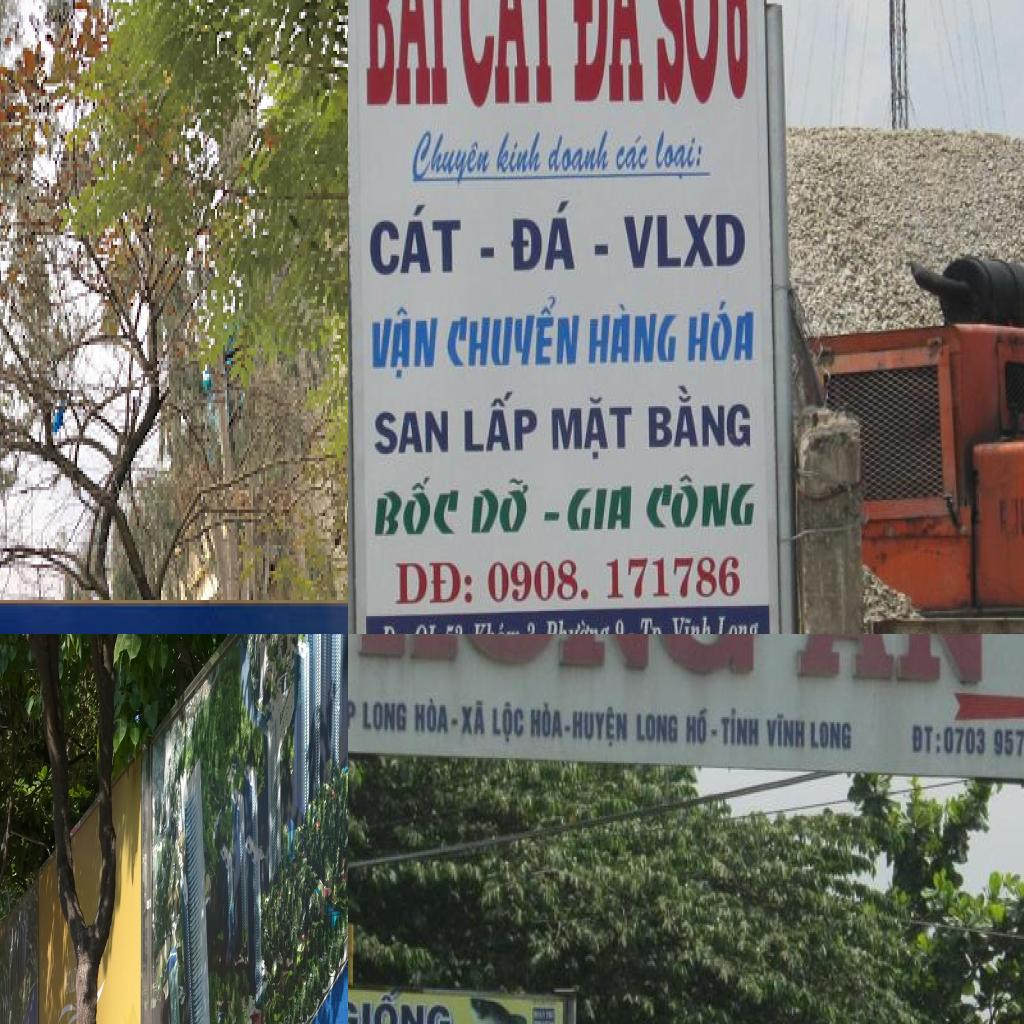text: (348, 634, 763, 682), (485, 544, 753, 610), (455, 0, 561, 112), (447, 292, 586, 375), (787, 634, 993, 688), (358, 0, 455, 114), (618, 198, 751, 273), (565, 0, 650, 112), (648, 0, 724, 119), (366, 196, 468, 284), (646, 379, 756, 457), (644, 469, 760, 538), (546, 394, 638, 470), (586, 297, 681, 369), (458, 386, 543, 464), (371, 472, 463, 542), (366, 297, 440, 384), (508, 194, 584, 276), (685, 288, 760, 370), (408, 123, 493, 188), (564, 471, 638, 539), (375, 398, 453, 462), (392, 553, 478, 609), (348, 981, 459, 1024), (470, 471, 535, 539), (546, 125, 613, 181), (653, 123, 705, 186), (492, 125, 546, 181), (572, 704, 628, 750), (361, 696, 408, 738), (633, 708, 681, 746), (491, 698, 526, 750), (717, 706, 760, 748), (612, 133, 652, 178), (808, 715, 854, 753), (412, 693, 450, 738), (527, 698, 563, 743), (942, 724, 986, 756), (765, 714, 806, 748), (456, 695, 488, 737), (715, 609, 762, 634), (545, 616, 610, 634), (669, 609, 715, 634), (993, 724, 1024, 758), (683, 707, 710, 746), (469, 617, 522, 634), (470, 239, 502, 266), (911, 722, 935, 755), (637, 612, 669, 634), (589, 237, 614, 261), (541, 504, 563, 529), (348, 688, 359, 736), (413, 619, 442, 634), (380, 621, 412, 634), (65, 965, 77, 997), (444, 619, 469, 634), (523, 617, 541, 634), (614, 614, 627, 634), (448, 714, 460, 729), (712, 724, 722, 739), (566, 720, 573, 734), (627, 628, 638, 634)
